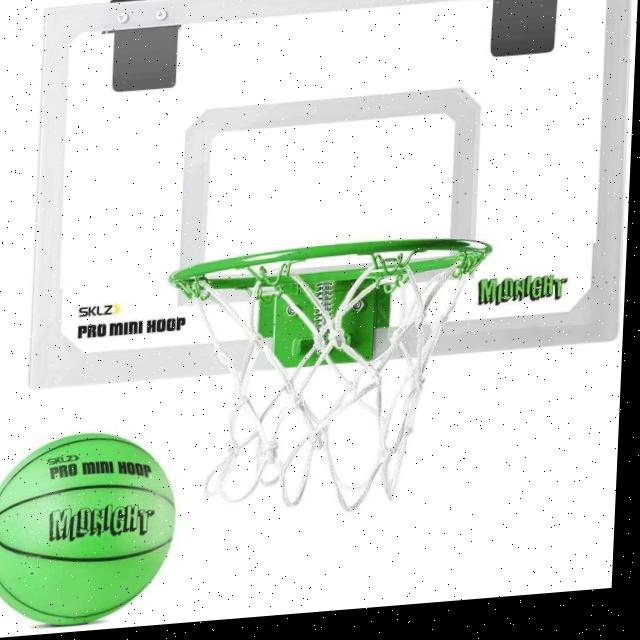basketball: (0, 426, 180, 633)
hoop: (157, 231, 492, 528)
